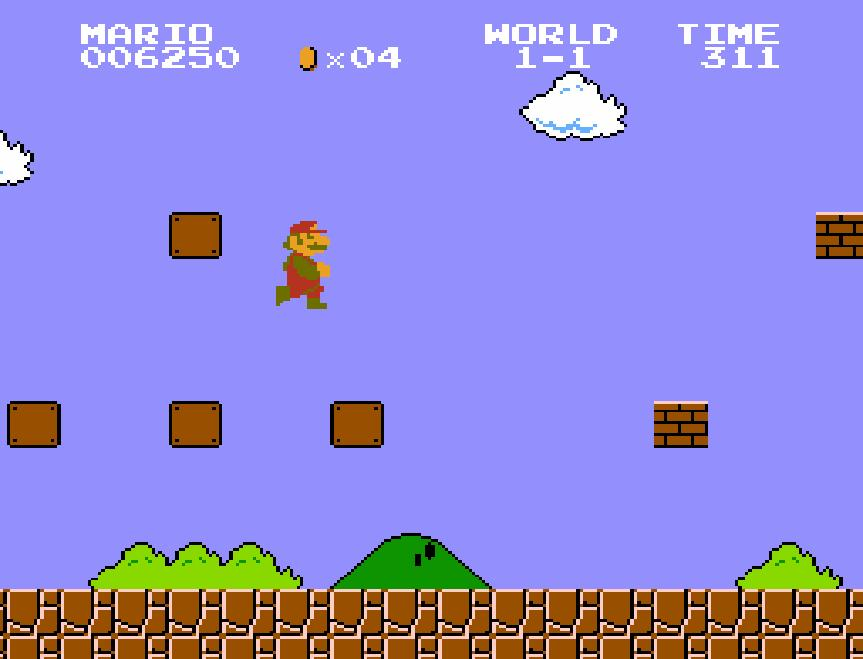big_mario: (274, 212, 332, 310)
